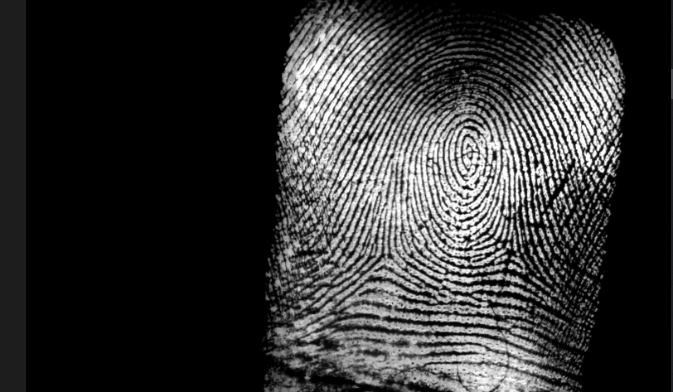nucelo: (455, 124, 483, 181)
verticilo: (365, 245, 401, 276), (492, 233, 526, 262)
